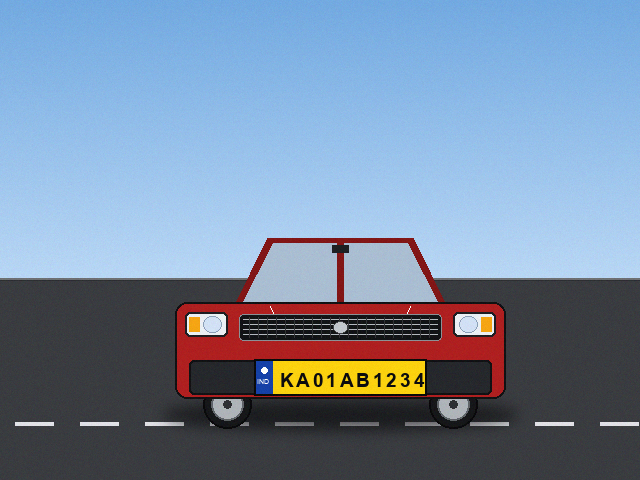licence: (254, 359, 426, 395)
